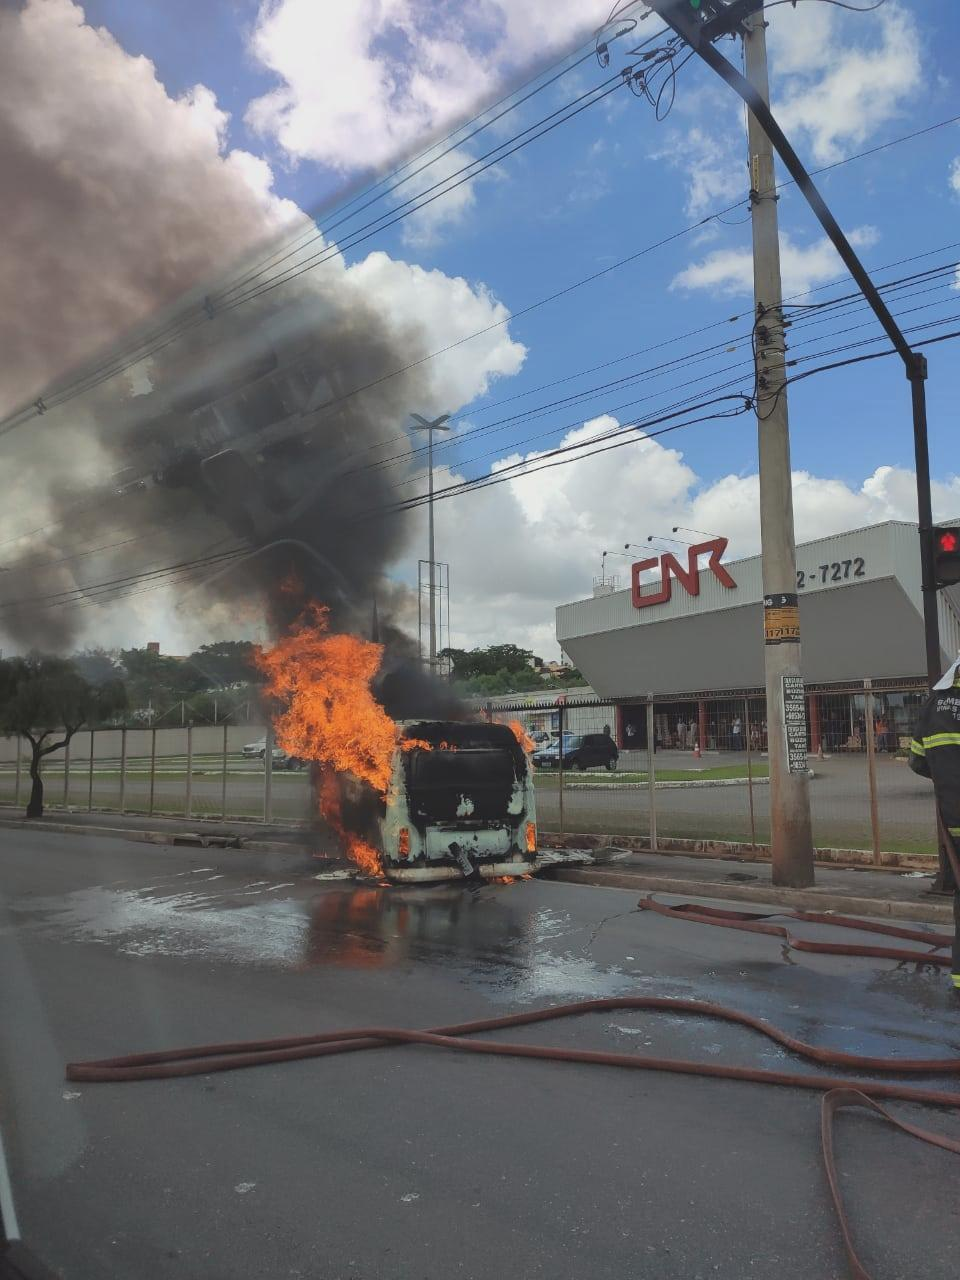Fire: (248, 607, 435, 807), (345, 835, 383, 876), (510, 721, 536, 755), (526, 827, 539, 851)
